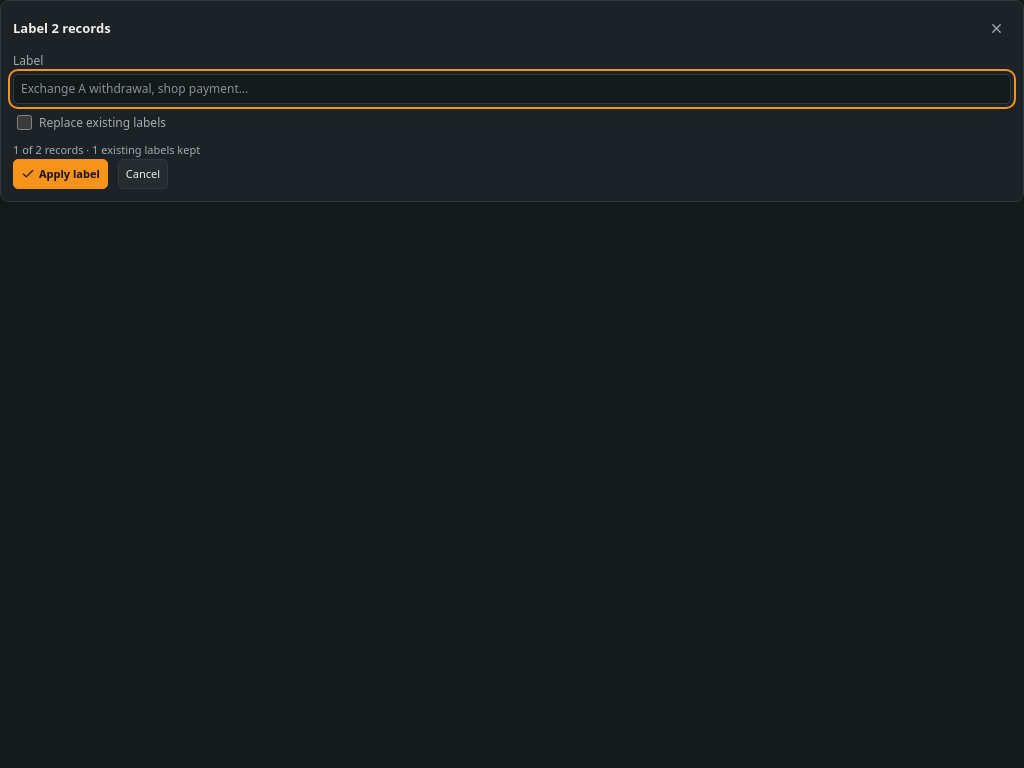
changes only unlabelled batch records in one update and keeps a failed edit open
Type "New label" into the field named "Batch label".
click(512, 89); type("New label")  # box [13,74,1011,104]
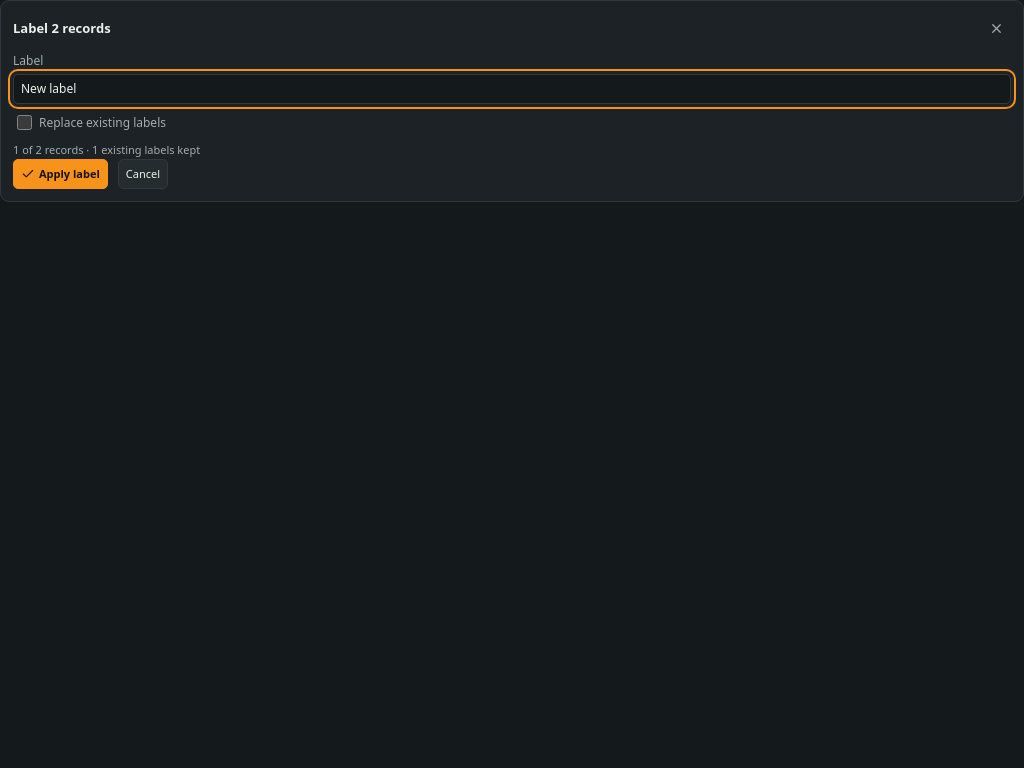
Click the button "Apply label".
click(60, 174)  # box [13,159,108,189]
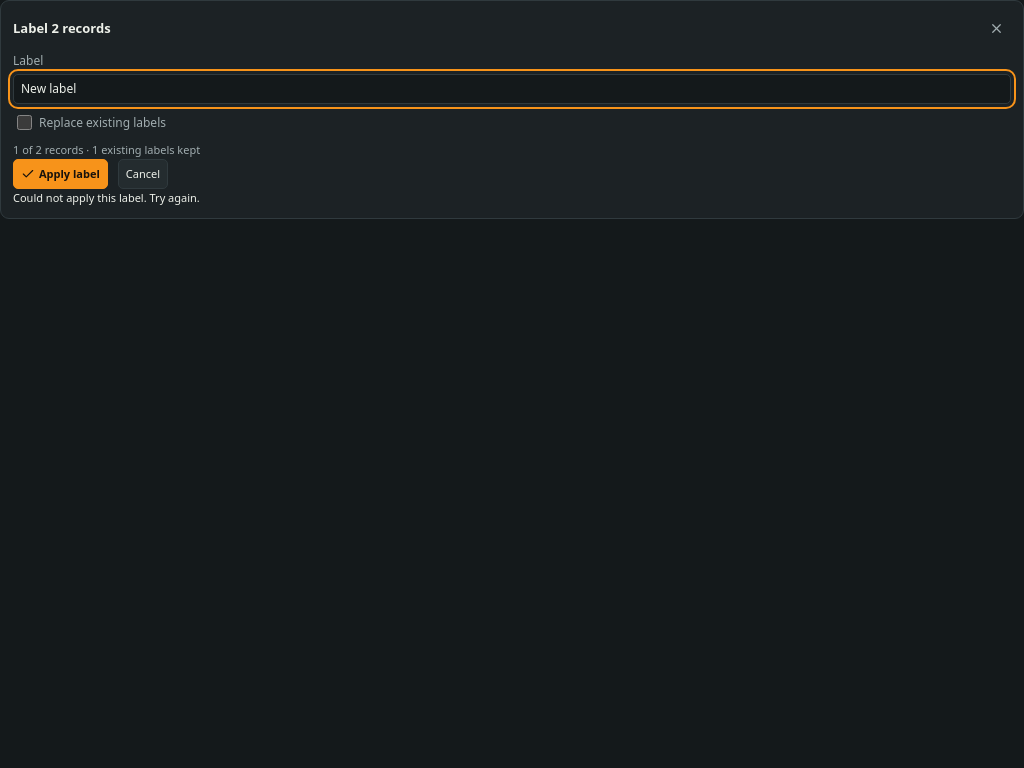
Now the message reads "Could not apply this label. Try again.", box [13,190,200,205]
